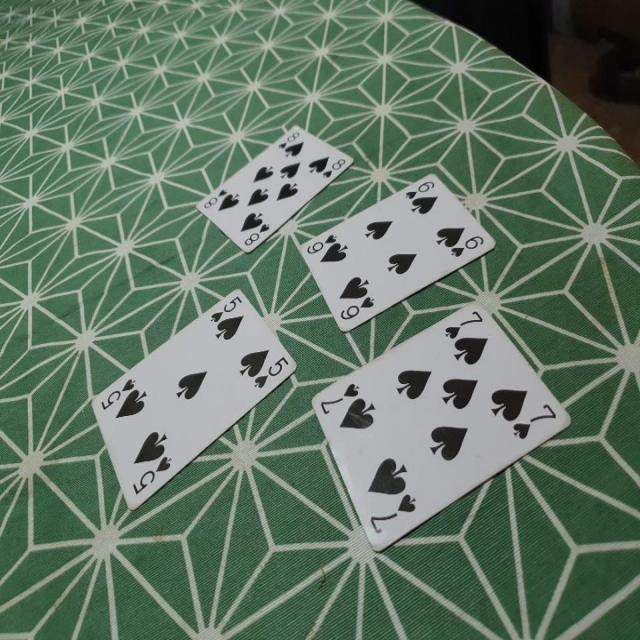5 Spades: (81, 290, 312, 521)
6 Spades: (293, 171, 500, 345)
7 Spades: (307, 307, 573, 550)
8 Spades: (190, 117, 360, 265)
